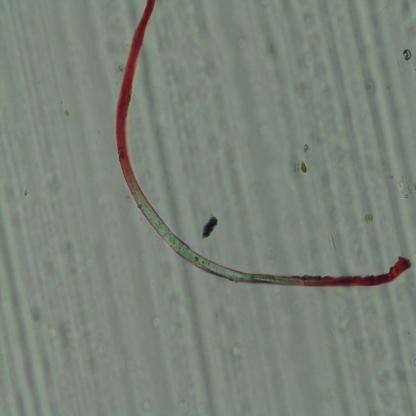Background material: (20, 288, 68, 350), (350, 3, 380, 100), (296, 30, 334, 103), (36, 168, 74, 238), (263, 27, 286, 74), (334, 312, 358, 345), (394, 171, 416, 202), (200, 214, 218, 243), (292, 157, 312, 176), (360, 211, 375, 226), (232, 345, 248, 358), (402, 49, 413, 62)
Microfibre: (113, 0, 411, 289)
